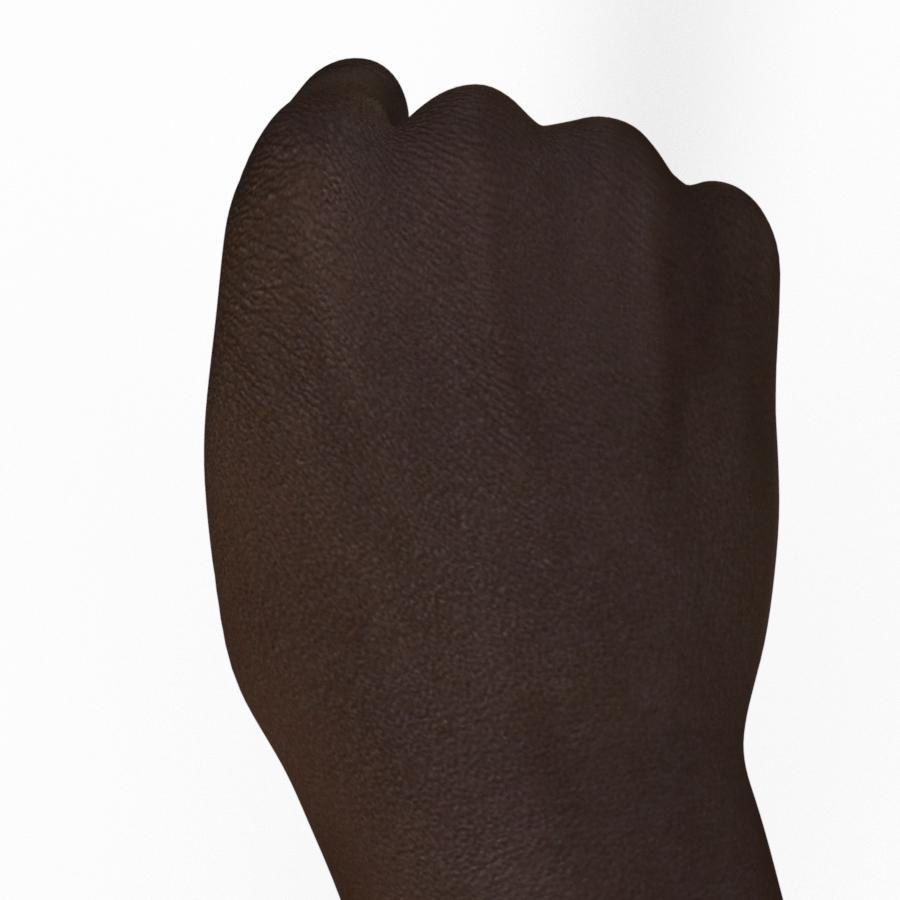rock: (206, 60, 780, 899)
